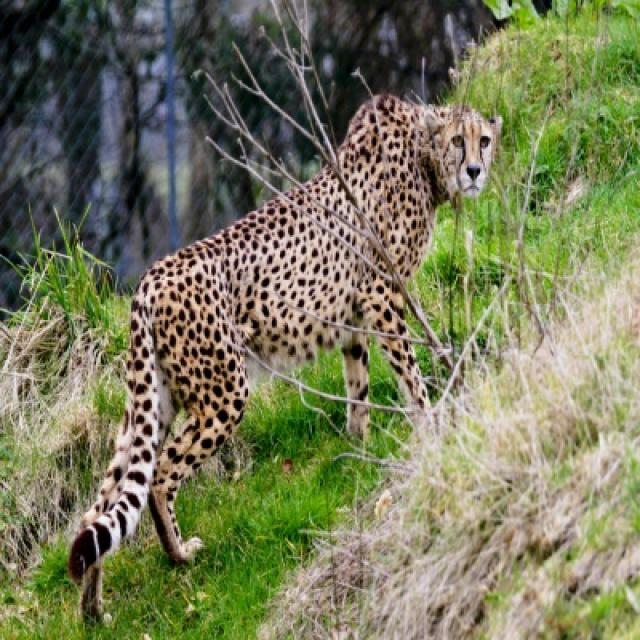Cheetah: (75, 90, 511, 618)
